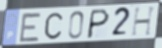0: (67, 9, 85, 40)
2: (110, 6, 133, 39)
C: (44, 11, 65, 41)
E: (18, 12, 43, 44)
H: (130, 5, 157, 38)
P: (85, 8, 112, 40)
